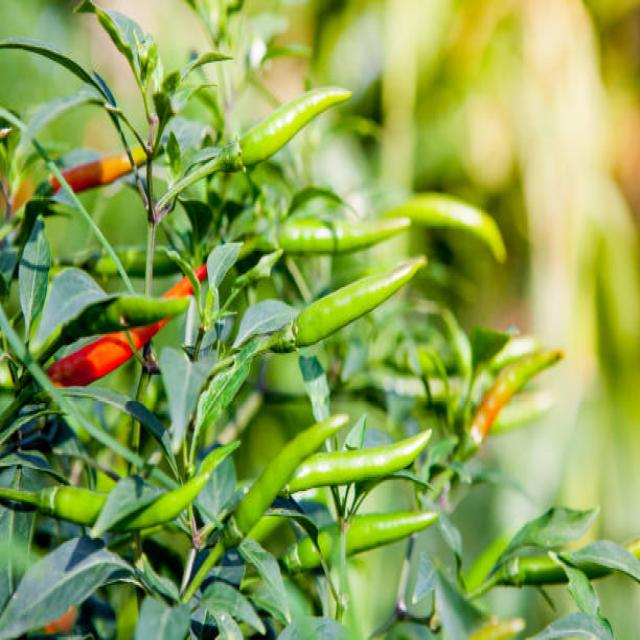Half-Ripe: (61, 146, 147, 192)
Ripe: (48, 318, 171, 386)
Unripe: (234, 414, 349, 535), (294, 257, 426, 347), (283, 510, 439, 577), (286, 430, 431, 493), (52, 474, 209, 530), (240, 86, 351, 164), (66, 293, 188, 336), (279, 218, 411, 254)
